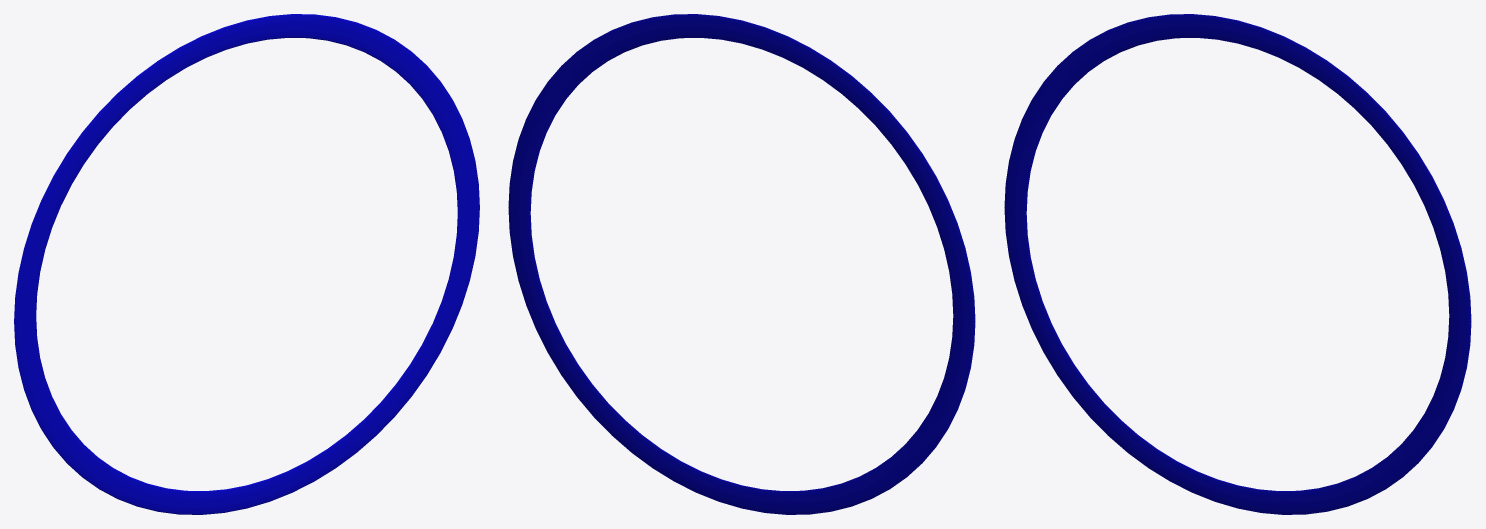
Rendered from AxisCircleZ.obj.
3 views of the same model, side by side, from view 1: azimuth 30°, elevation 25°; view 2: azimuth 150°, elevation 25°; view 3: azimuth 330°, elevation 25° (orthographic).
Parts seen in each view (by area): view 1: Torus.004; view 2: Torus.004; view 3: Torus.004.
Boxes of the visible parts, left/top/right/bottom form: Torus.004: left=14, top=14, right=479, bottom=514; Torus.004: left=508, top=14, right=975, bottom=514; Torus.004: left=1004, top=14, right=1471, bottom=514.
Bounding box in the file's own units: 2.1 × 2.1 × 0.0135.
